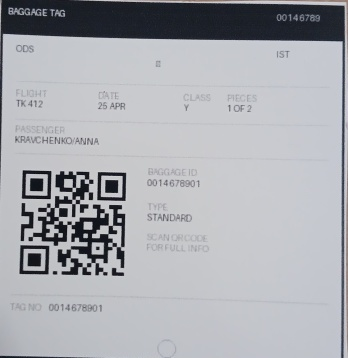LPN_bottom: (47, 299, 105, 315)
LPN_right: (144, 176, 202, 191)
